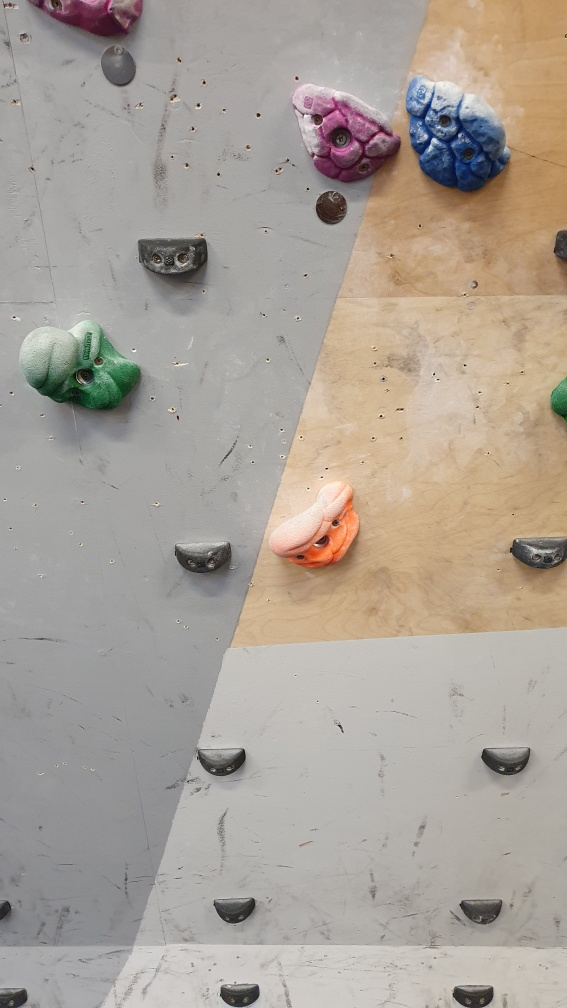Hand Start: (98, 40, 139, 89), (312, 188, 352, 226)
Jug: (403, 72, 515, 195), (290, 78, 404, 189), (20, 318, 146, 418)
Pinch: (135, 232, 214, 280), (166, 538, 240, 577), (510, 531, 567, 572), (194, 744, 251, 779), (477, 743, 534, 777), (454, 895, 510, 924), (218, 980, 266, 1008), (451, 980, 498, 1008), (210, 898, 259, 923), (1, 981, 34, 1007)
